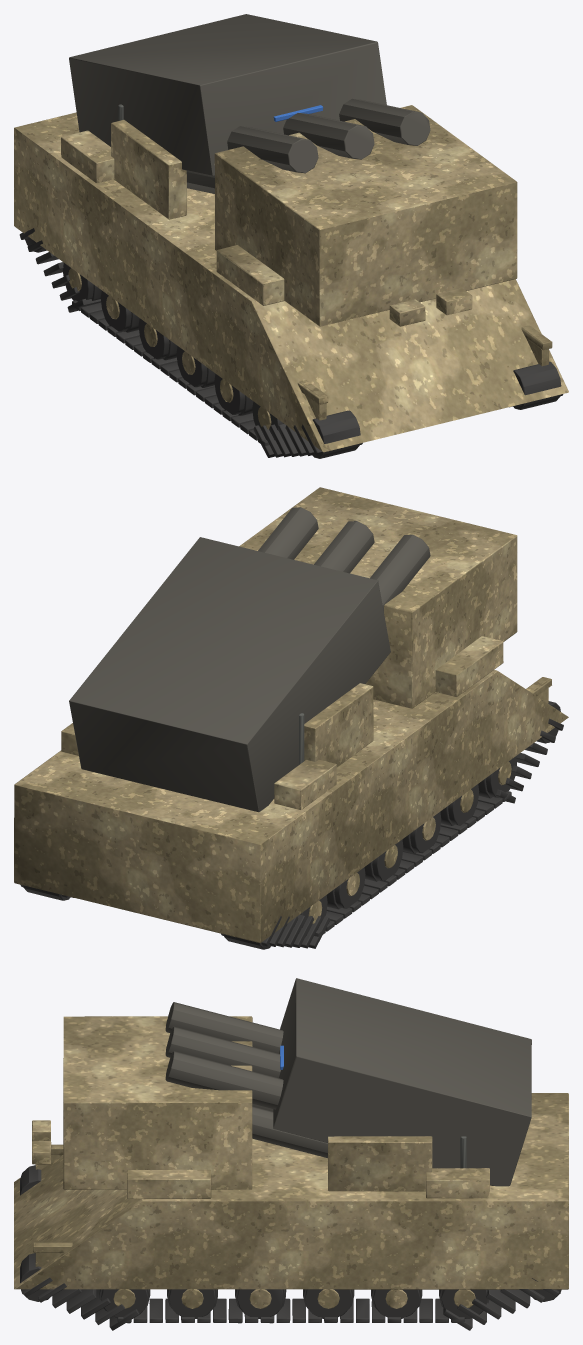
Rendered from art_e4_us_mlrs_LOD1.glb.
3 views of the same model, one above another, from view 1: azimuth 30°, elevation 25°; view 2: azimuth 150°, elevation 25°; view 3: azimuth 270°, elevation 25° (orthographic). The views are drawn at different scales.
Parts seen in each view (by area): view 1: art_e4_us_mlrs_LOD1_body, art_e4_us_mlrs_LOD1_deck, art_e4_us_mlrs_LOD1_track; view 2: art_e4_us_mlrs_LOD1_body, art_e4_us_mlrs_LOD1_deck, art_e4_us_mlrs_LOD1_track; view 3: art_e4_us_mlrs_LOD1_body, art_e4_us_mlrs_LOD1_deck, art_e4_us_mlrs_LOD1_track.
Part boxes in pixels (<box>): art_e4_us_mlrs_LOD1_body: <box>14,105,568,452</box>; art_e4_us_mlrs_LOD1_deck: <box>69,14,430,193</box>; art_e4_us_mlrs_LOD1_track: <box>19,228,563,458</box>; art_e4_us_mlrs_LOD1_body: <box>14,487,568,942</box>; art_e4_us_mlrs_LOD1_deck: <box>69,507,430,812</box>; art_e4_us_mlrs_LOD1_track: <box>20,701,563,949</box>; art_e4_us_mlrs_LOD1_body: <box>14,1016,568,1308</box>; art_e4_us_mlrs_LOD1_deck: <box>165,978,531,1186</box>; art_e4_us_mlrs_LOD1_track: <box>20,1165,561,1330</box>.
Size of the model in its own units: 3.18 by 3.56 by 6.89.
5 materials, 1 textured.
